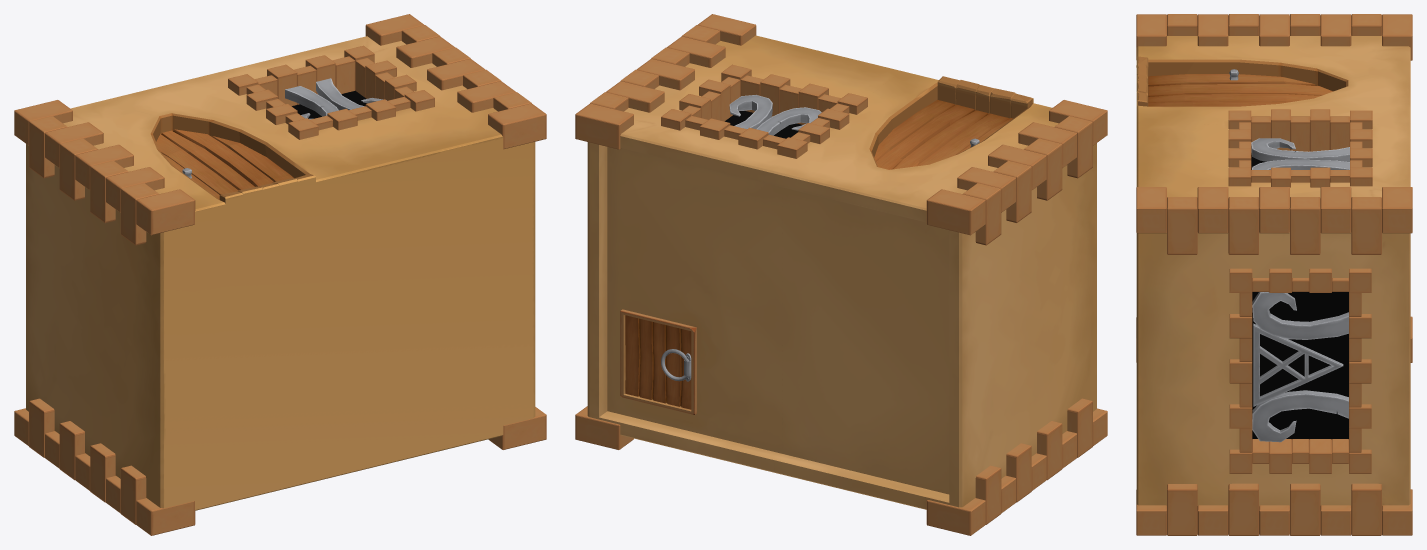
Rendered from casaMaster.fbx.
3 renders of one model, left to right at view 1: azimuth 30°, elevation 25°; view 2: azimuth 150°, elevation 25°; view 3: azimuth 270°, elevation 25°, orthographic.
Parts seen in each view (by area): view 1: Estructura, Maderas, Metalicos; view 2: Estructura, Maderas, Metalicos; view 3: Estructura, Metalicos, Maderas.
Boxes of the visible parts, box(x1,y1,x2,y2) form: Estructura: box(14, 14, 546, 535); Maderas: box(156, 129, 293, 199); Metalicos: box(182, 78, 386, 178); Estructura: box(575, 14, 1107, 535); Maderas: box(625, 100, 1013, 409); Metalicos: box(661, 95, 979, 381); Estructura: box(1136, 14, 1412, 535); Metalicos: box(1229, 69, 1349, 442); Maderas: box(1148, 74, 1332, 106).
Size of the model in its own units: 456 by 358 by 274.
